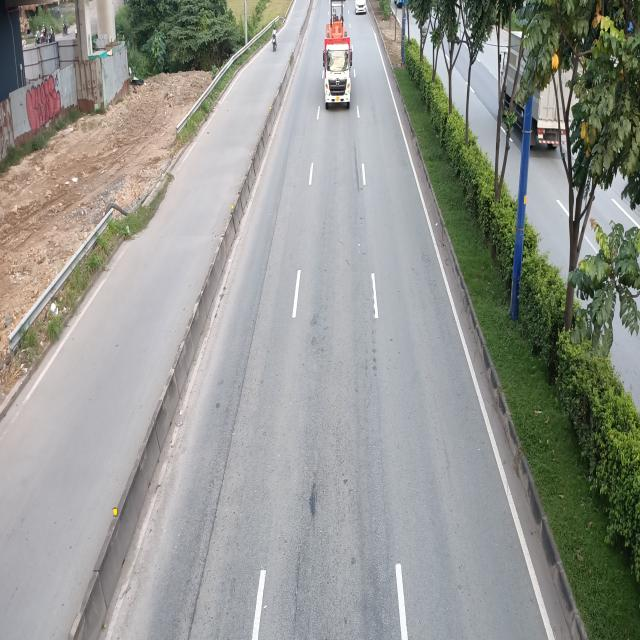car: (354, 0, 367, 14)
truck: (323, 38, 352, 112)
